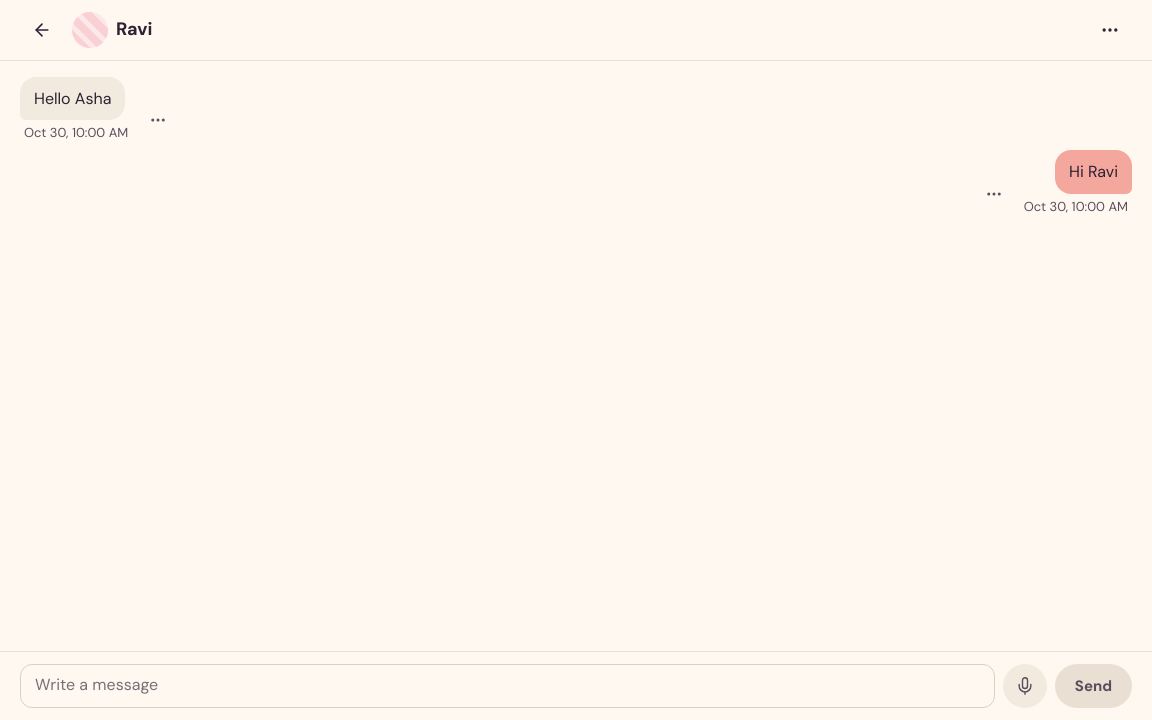
ConversationView › explains a closed door and a wait for a reply, and closes the field when messages are closed
The image size is (1152, 720).
Step 1. Type "again" into the text box named "Message to Ravi" → (507, 686), box [20,664,995,708]
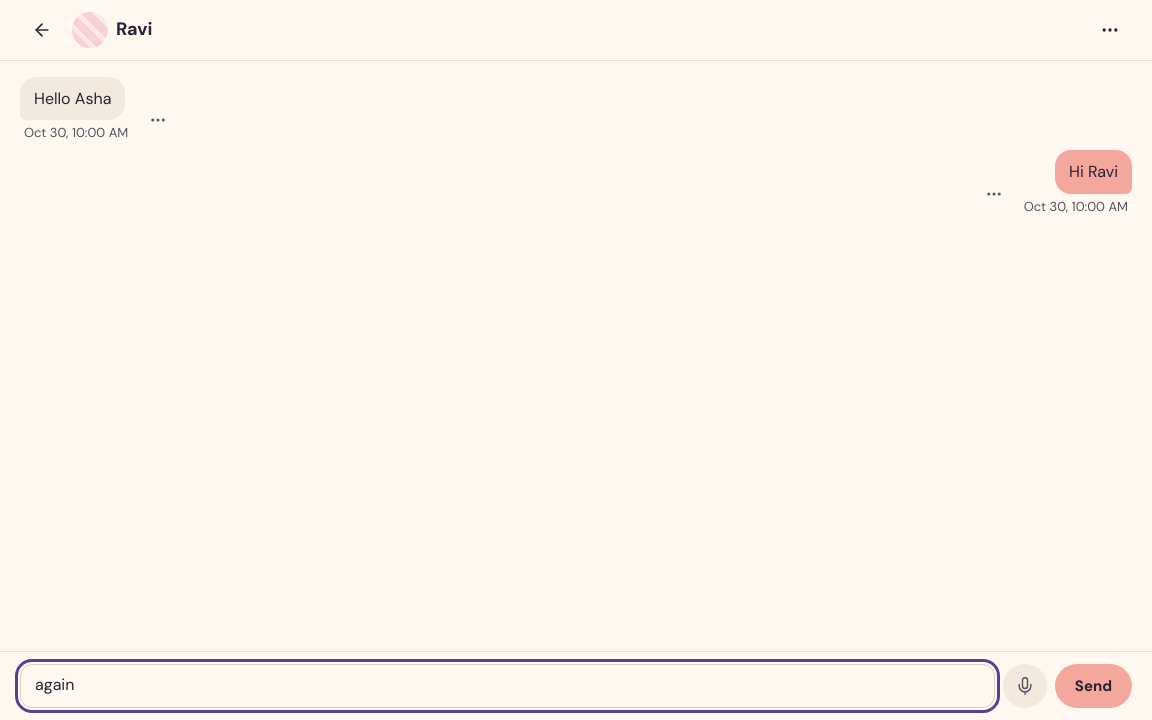
Step 2. Click the button "Send" → click(1093, 686), box [1055,664,1132,708]
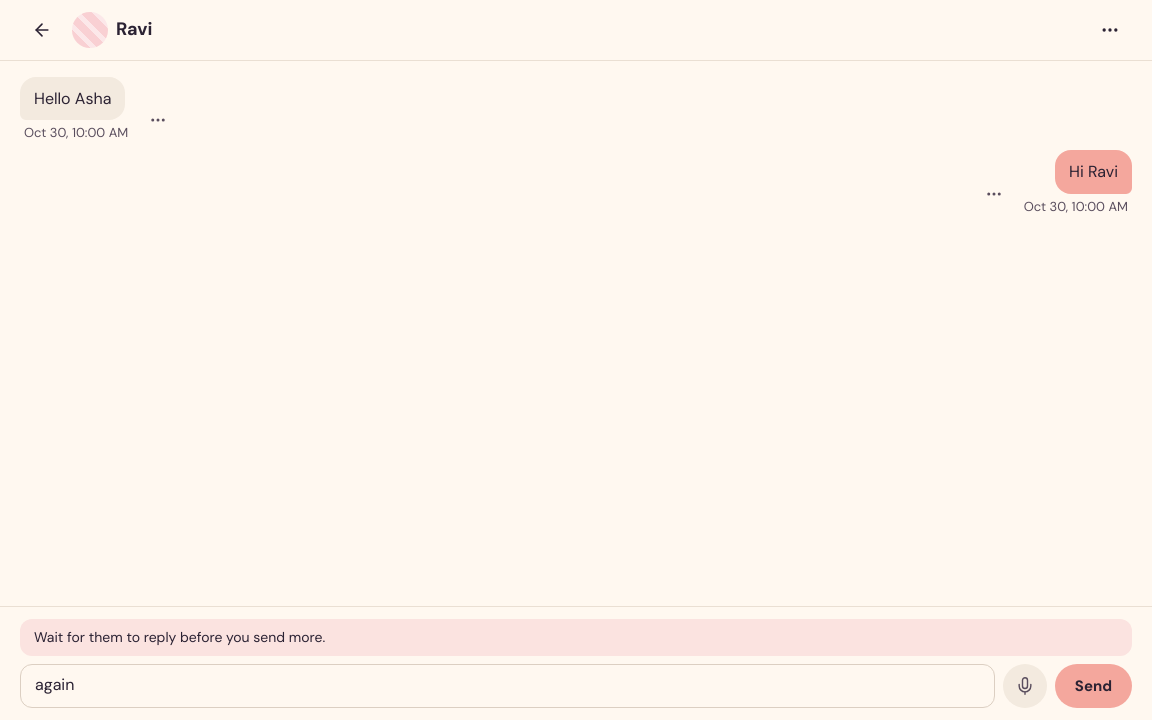
Result: the text "Wait for them to reply before you send more." is shown at [20,619,1132,656]
Step 3. Click the button "Send" → click(1093, 686), box [1055,664,1132,708]
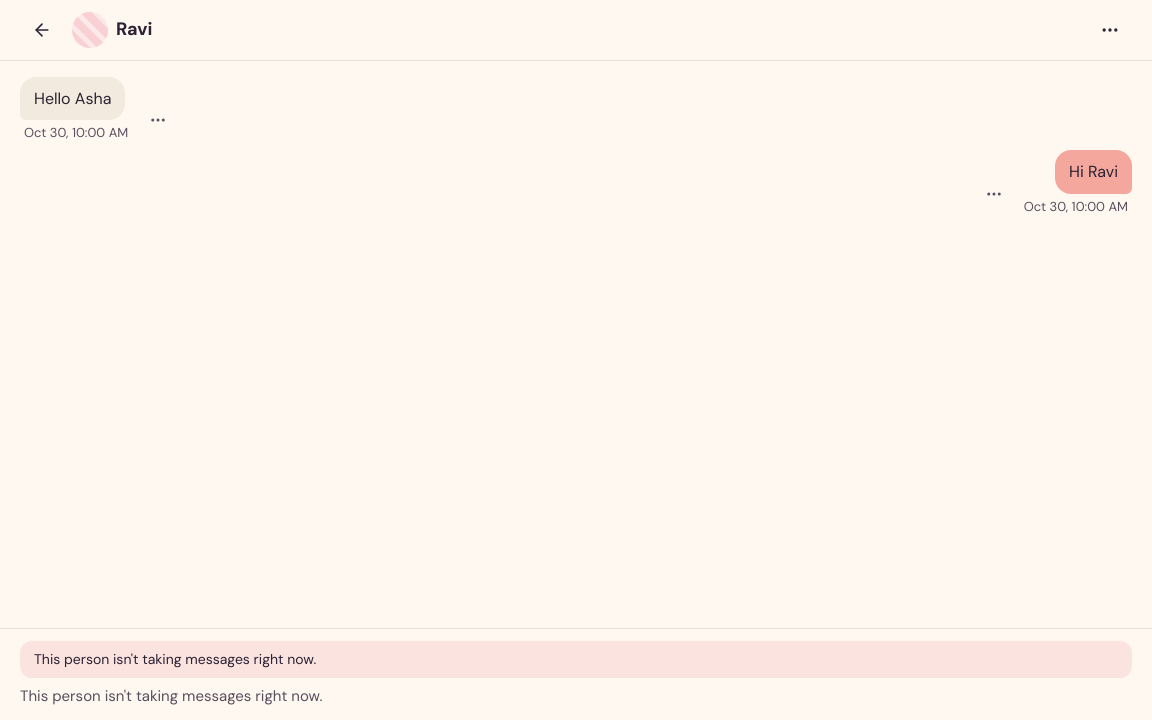
Expected: the field labelled "Message to Ravi" is not shown
Result: the 1st text "This person isn't taking messages right now." is shown at [20,642,1132,678]
